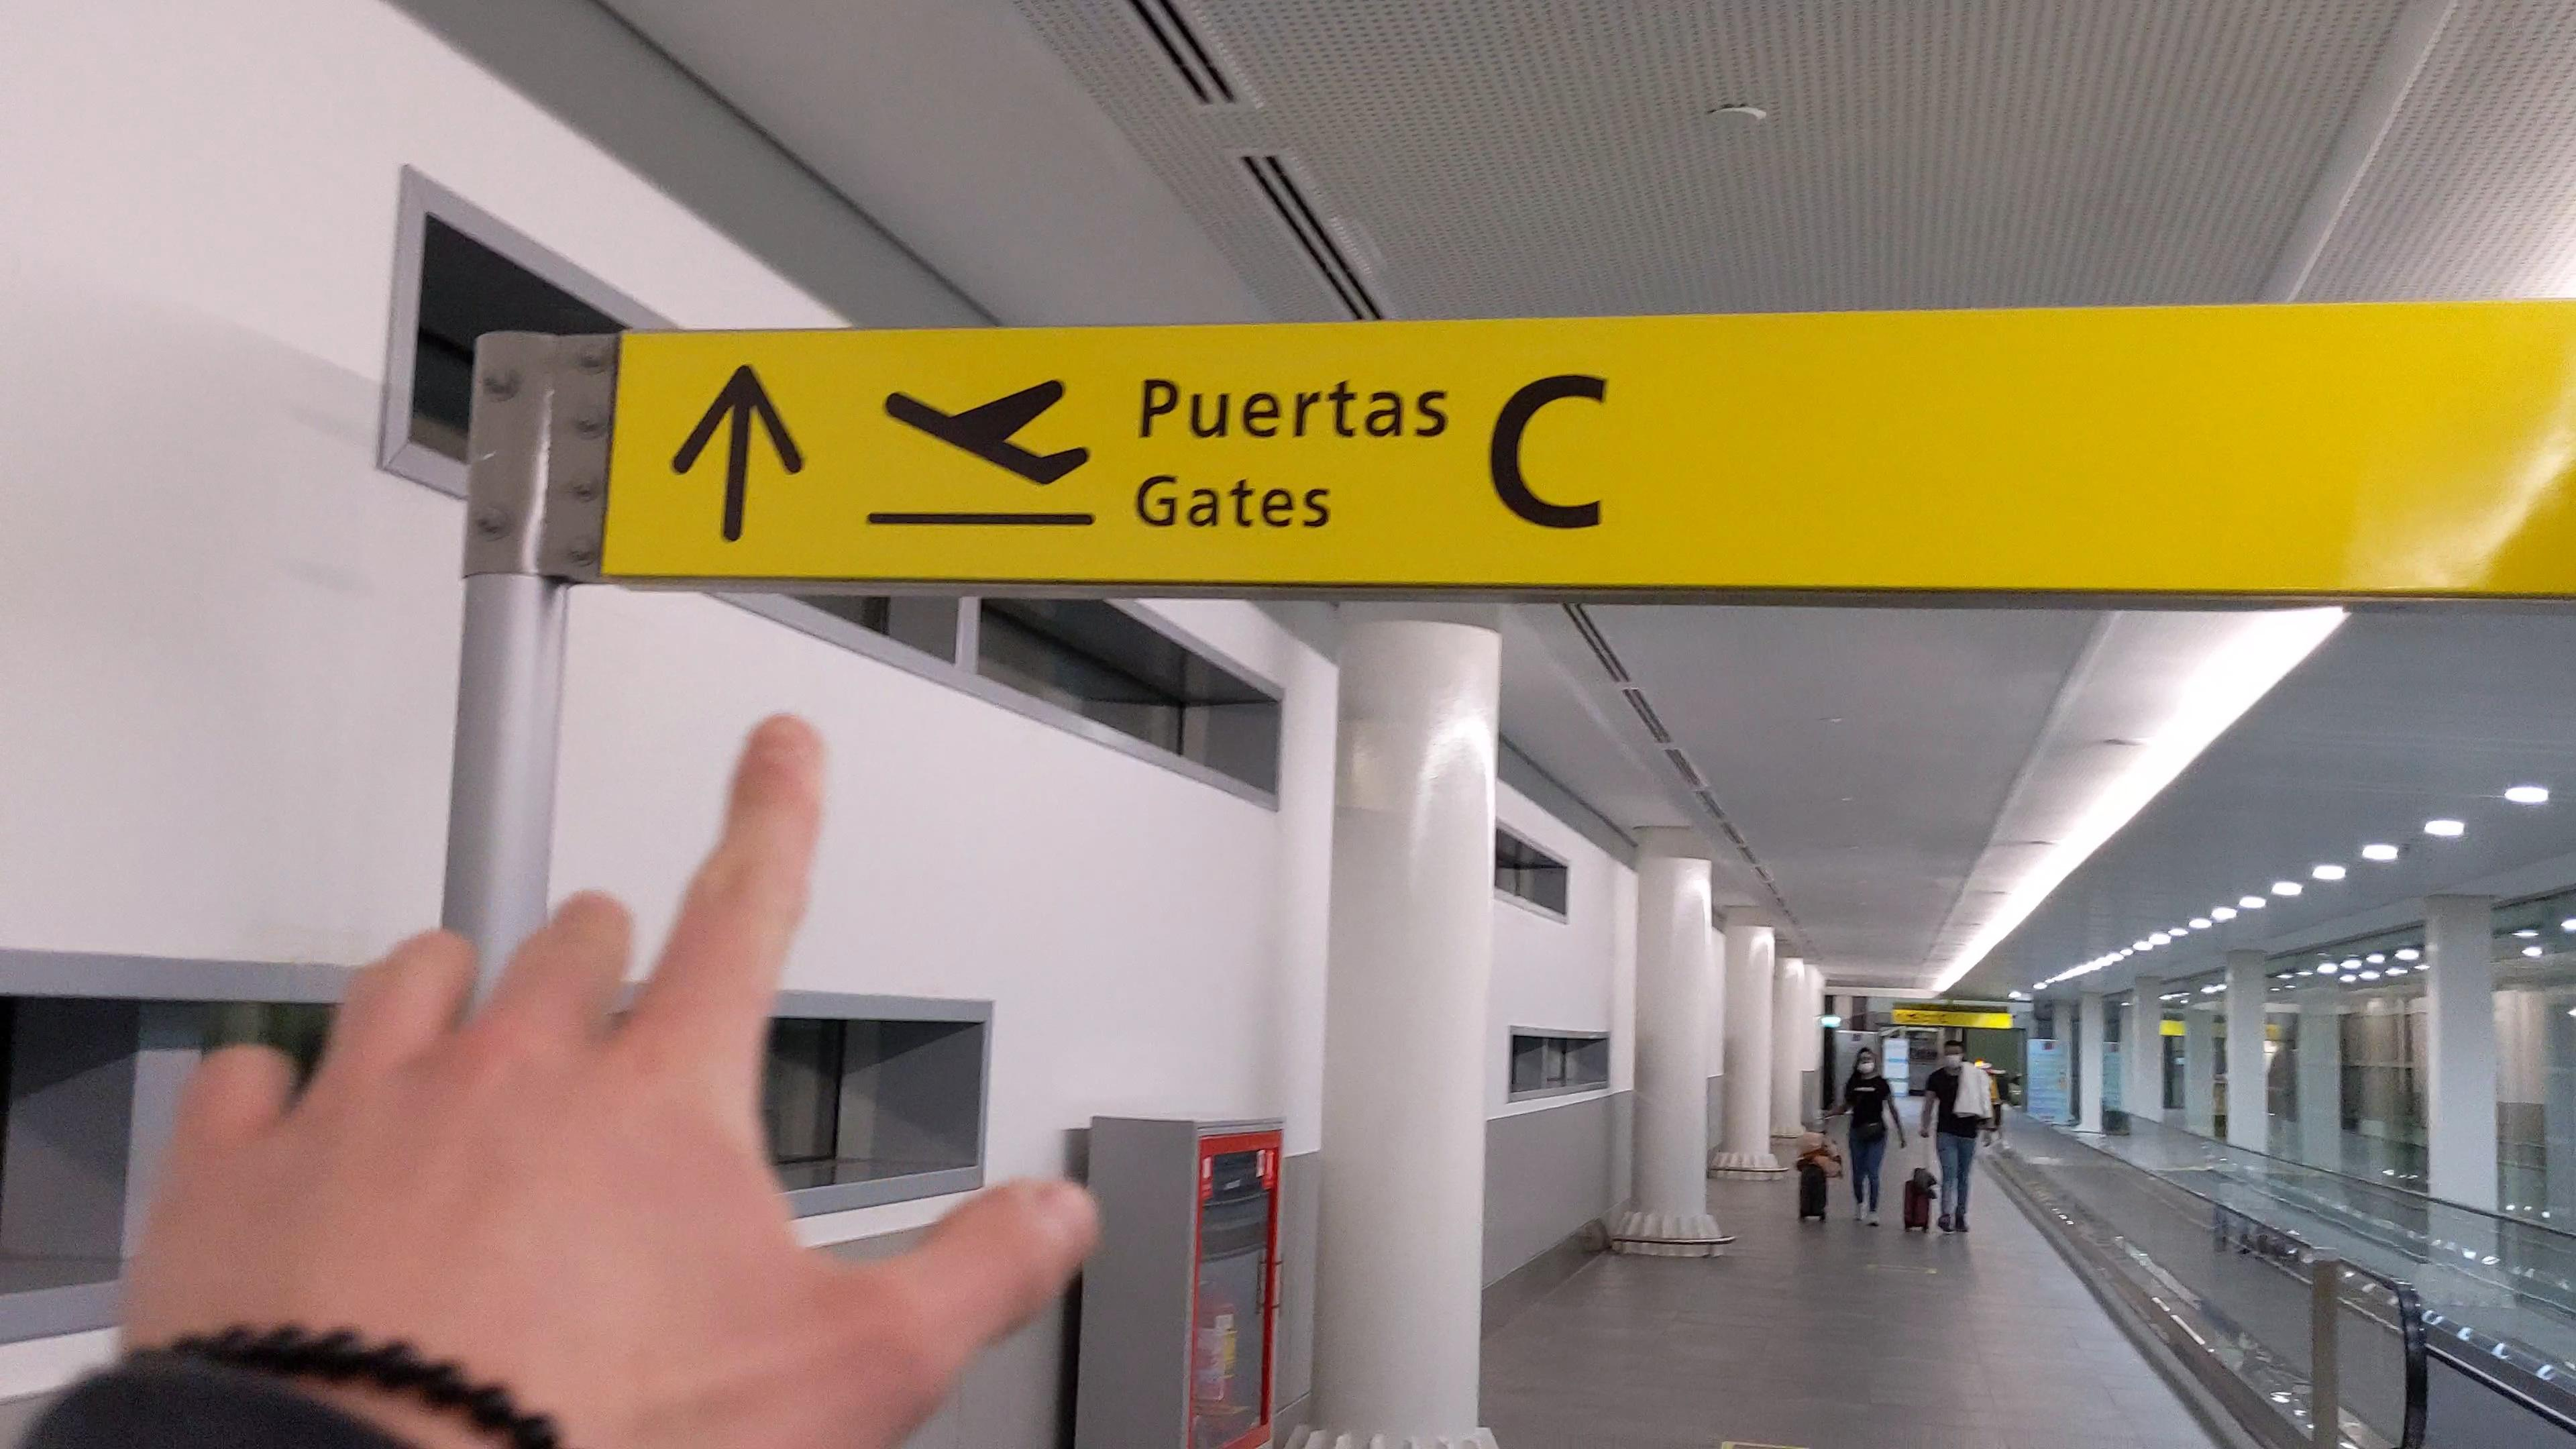airplane symbol: (883, 373, 1095, 488)
fire-extinguisher: (1191, 1277, 1246, 1437)
thin up arrow: (674, 364, 810, 547)
